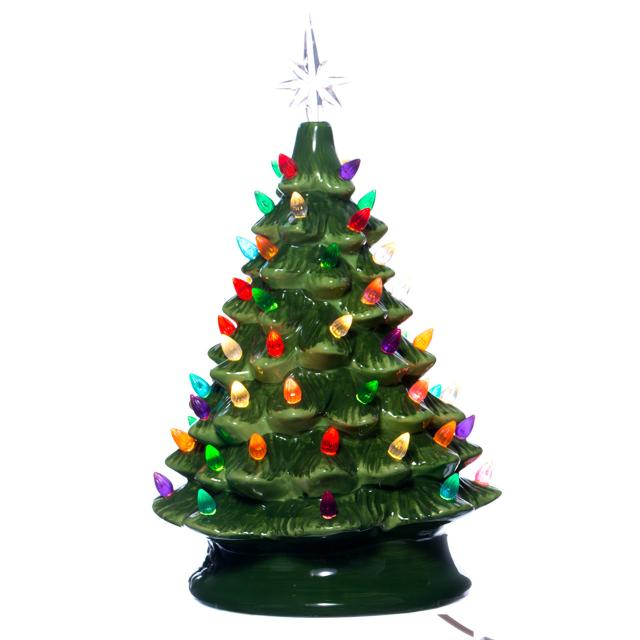Christmas-tree: (138, 10, 537, 628)
